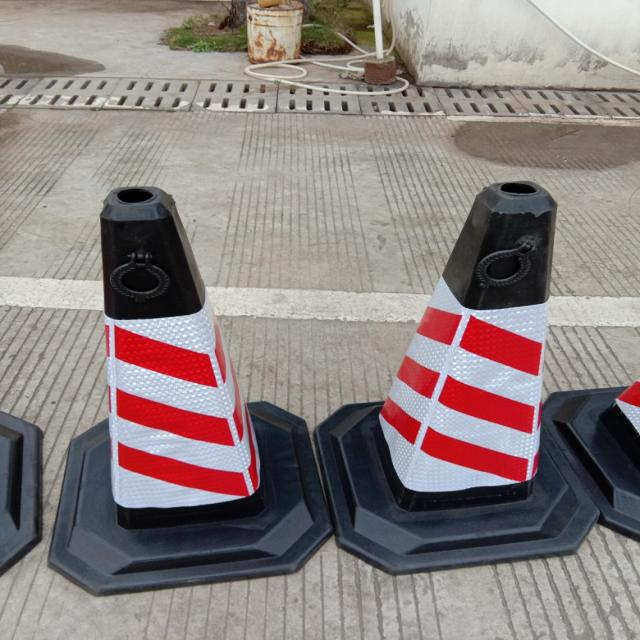reflective_cone: (313, 177, 599, 575), (52, 183, 327, 591), (544, 368, 639, 534)
